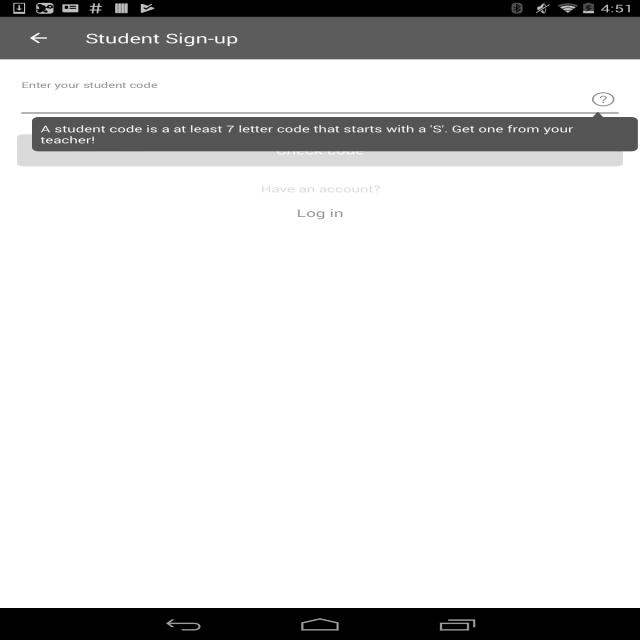Button: (17, 134, 623, 167)
EditText: (17, 88, 623, 118)
ImageButton: (9, 17, 68, 59)
ImageView: (583, 87, 623, 112)
TextView: (32, 112, 638, 151), (17, 195, 623, 231), (17, 182, 623, 195), (85, 29, 238, 47)
